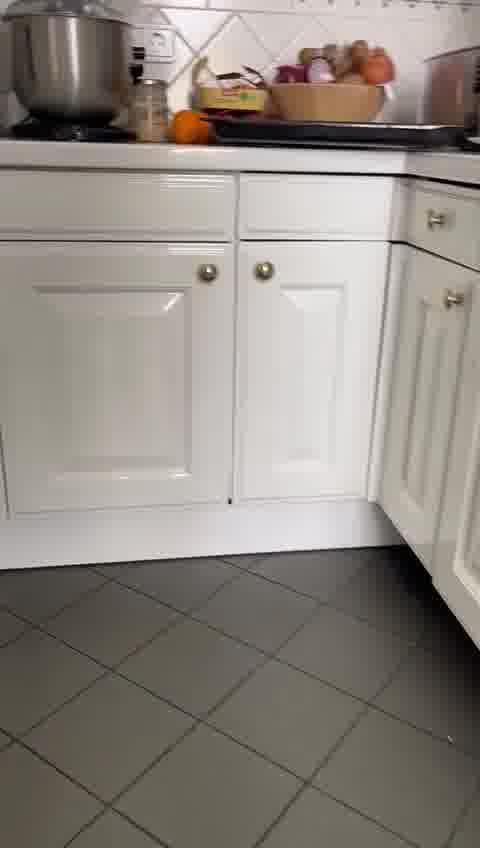cabinet_door: (0, 248, 228, 526), (237, 246, 381, 513), (388, 254, 451, 533), (2, 172, 235, 242), (238, 170, 404, 240), (447, 260, 478, 628), (409, 188, 479, 252)
handle: (251, 256, 277, 291), (196, 259, 221, 290), (442, 286, 466, 312), (426, 214, 449, 235)
